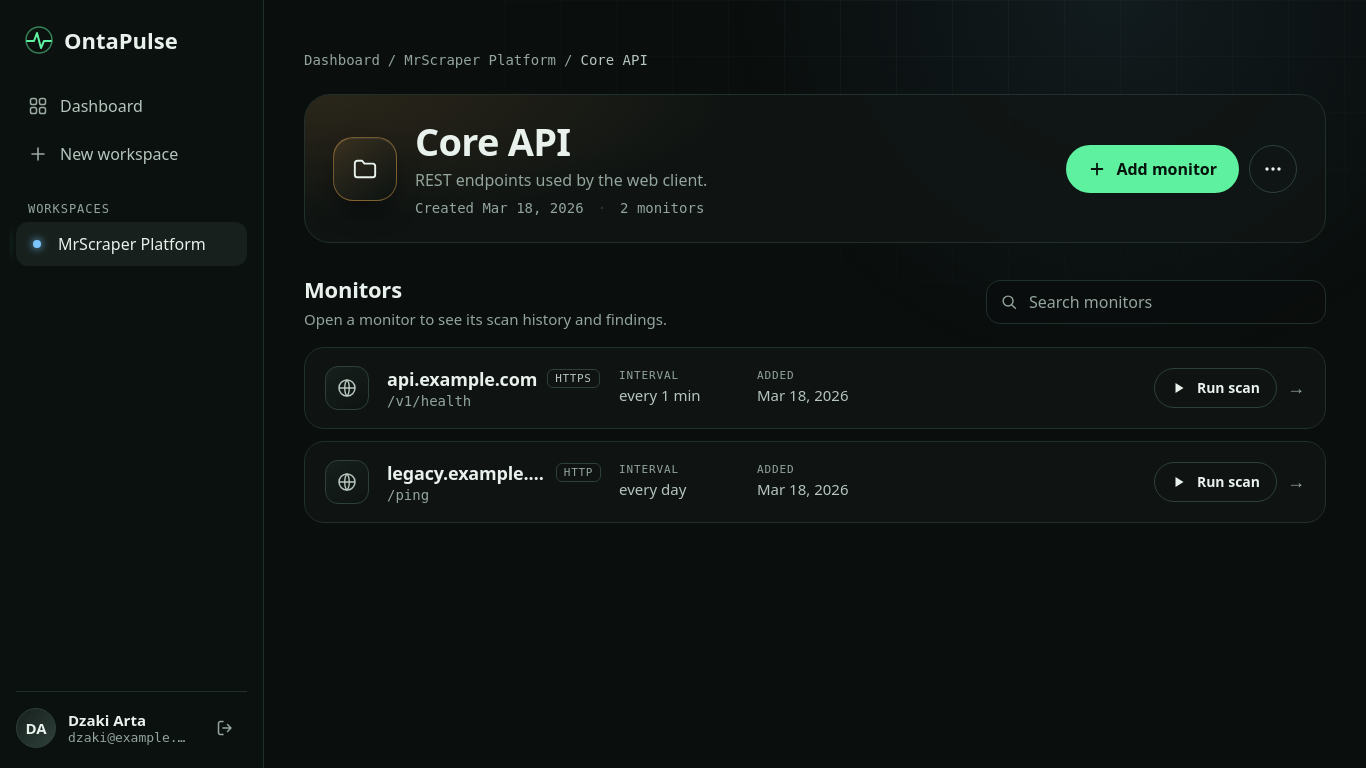
Scenario: ProjectPage › runs a scan and follows it to a result
The image size is (1366, 768).
Click the button with aria-label "Run scan for api.example.com" at [1215, 388], box [1154,368,1277,408]
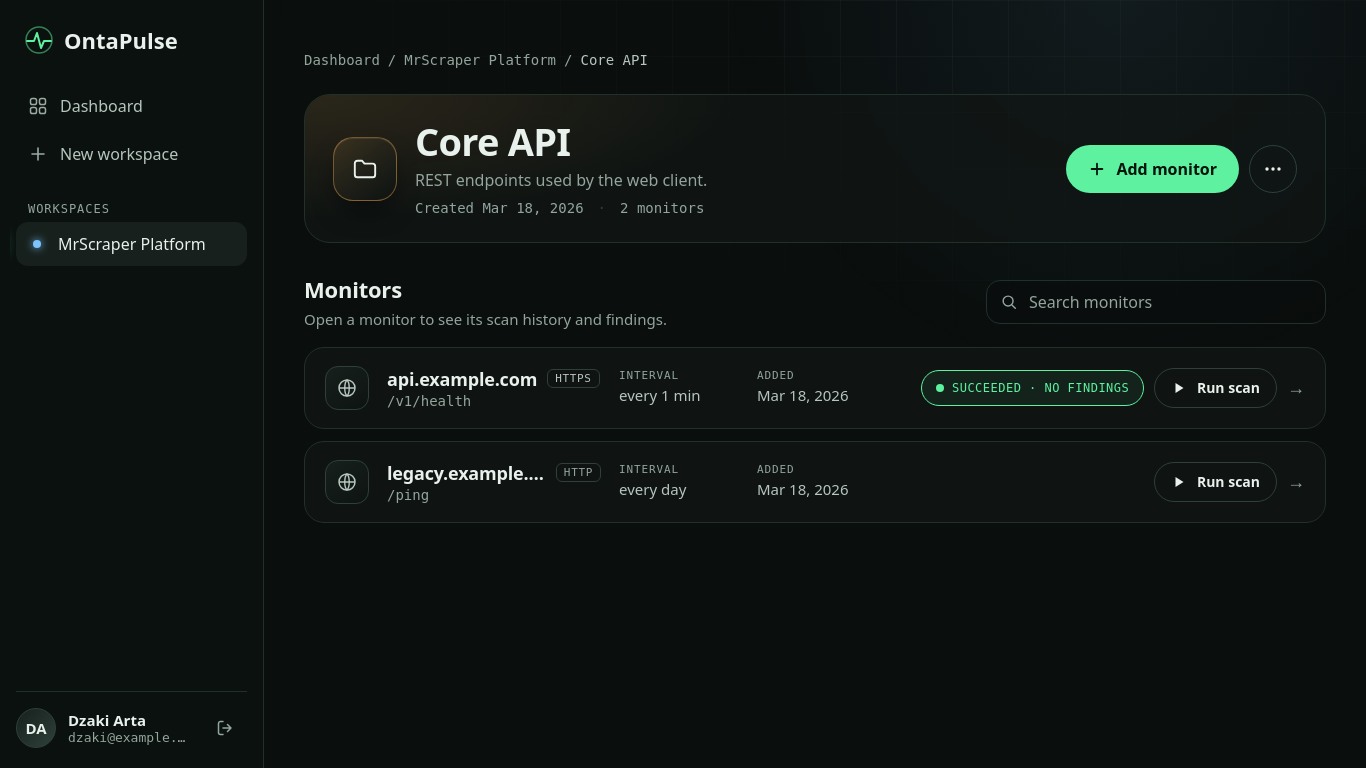
Result: the text "Succeeded · no findings" is shown at [921,370,1144,406]
